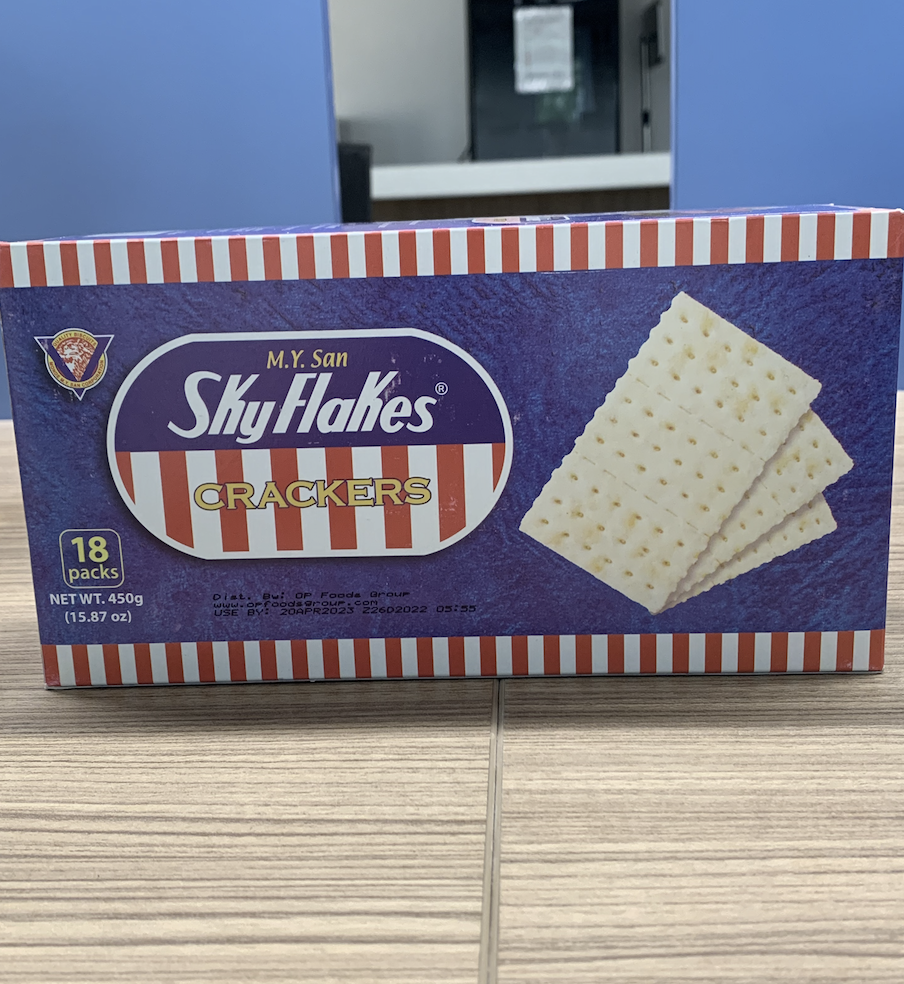crackers_400g-499g: (40, 251, 866, 651)
